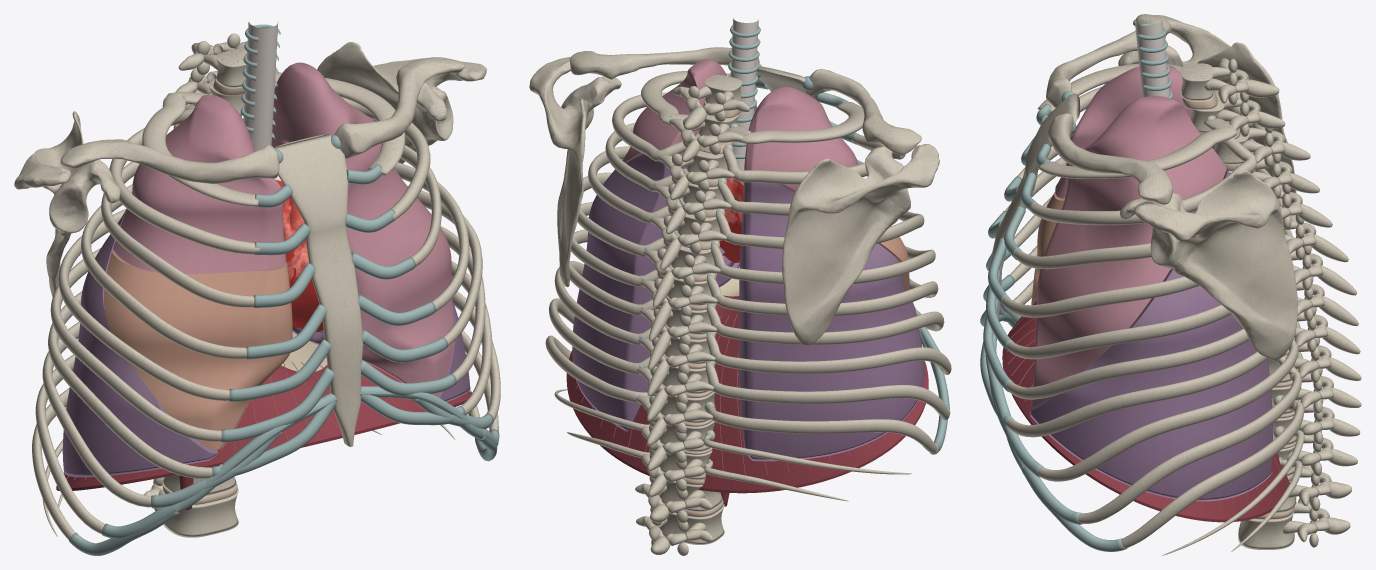
The model's file is torax-osso-texturizado.glb.
3 renders of one model, left to right at view 1: azimuth 30°, elevation 25°; view 2: azimuth 150°, elevation 25°; view 3: azimuth 270°, elevation 25°, orthographic. The views are drawn at different scales.
Parts seen in each view (by area): view 1: lobo_superior_E, lobo_medio_D, lobo_superior_D, caixa_toracica_osso, lobo_inferior_D, diafragma_diafragma, coluna_osso, escapula_D, escapula_E, clavicula_D, clavicula_E, costela_articulada_D_5_osso (+39 smaller); view 2: coluna_osso, lobo_inferior_D, escapula_D, lobo_inferior_E, diafragma_diafragma, escapula_E, lobo_superior_D, costela_articulada_D_9_osso, costela_articulada_D_8_osso, costela_articulada_D_10_osso, costela_articulada_D_7_osso, clavicula_D (+26 smaller); view 3: coluna_osso, lobo_inferior_E, lobo_superior_E, escapula_E, diafragma_diafragma, costela_articulada_E_8_osso, escapula_D, costela_articulada_E_7_osso, costela_articulada_E_9_osso, costela_articulada_E_6_osso, clavicula_E, lobo_superior_D (+23 smaller).
Boxes of the visible parts, x1=… form: lobo_superior_E: x1=271, y1=62, x2=453, y2=395; lobo_medio_D: x1=104, y1=251, x2=292, y2=449; lobo_superior_D: x1=113, y1=94, x2=286, y2=273; caixa_toracica_osso: x1=274, y1=134, x2=363, y2=446; lobo_inferior_D: x1=62, y1=208, x2=217, y2=477; diafragma_diafragma: x1=56, y1=363, x2=471, y2=509; coluna_osso: x1=143, y1=33, x2=246, y2=537; escapula_D: x1=14, y1=111, x2=120, y2=296; escapula_E: x1=317, y1=42, x2=486, y2=163; clavicula_D: x1=60, y1=139, x2=279, y2=183; clavicula_E: x1=334, y1=57, x2=464, y2=158; costela_articulada_D_5_osso: x1=58, y1=209, x2=229, y2=400; coluna_osso: x1=635, y1=75, x2=749, y2=555; lobo_inferior_D: x1=738, y1=182, x2=924, y2=461; escapula_D: x1=782, y1=144, x2=939, y2=345; lobo_inferior_E: x1=572, y1=154, x2=739, y2=431; diafragma_diafragma: x1=566, y1=295, x2=928, y2=506; escapula_E: x1=529, y1=57, x2=621, y2=287; lobo_superior_D: x1=744, y1=87, x2=857, y2=192; costela_articulada_D_9_osso: x1=705, y1=361, x2=949, y2=420; costela_articulada_D_8_osso: x1=706, y1=332, x2=951, y2=374; costela_articulada_D_10_osso: x1=704, y1=402, x2=937, y2=453; costela_articulada_D_7_osso: x1=706, y1=303, x2=944, y2=344; clavicula_D: x1=805, y1=69, x2=921, y2=154; coluna_osso: x1=1181, y1=58, x2=1361, y2=549; lobo_inferior_E: x1=1030, y1=170, x2=1272, y2=501; lobo_superior_E: x1=1031, y1=96, x2=1226, y2=407; escapula_E: x1=1120, y1=170, x2=1297, y2=360; diafragma_diafragma: x1=1002, y1=302, x2=1289, y2=522; costela_articulada_E_8_osso: x1=1038, y1=339, x2=1298, y2=481; escapula_D: x1=1118, y1=15, x2=1296, y2=203; costela_articulada_E_7_osso: x1=1006, y1=351, x2=1267, y2=437; costela_articulada_E_9_osso: x1=1078, y1=356, x2=1301, y2=523; costela_articulada_E_6_osso: x1=1006, y1=328, x2=1249, y2=399; clavicula_E: x1=1047, y1=113, x2=1172, y2=204; lobo_superior_D: x1=1055, y1=65, x2=1202, y2=198.
Bounding box in the file's own units: 0.3052 × 0.3483 × 0.231.
Materials: 14 (2 with a texture image).
